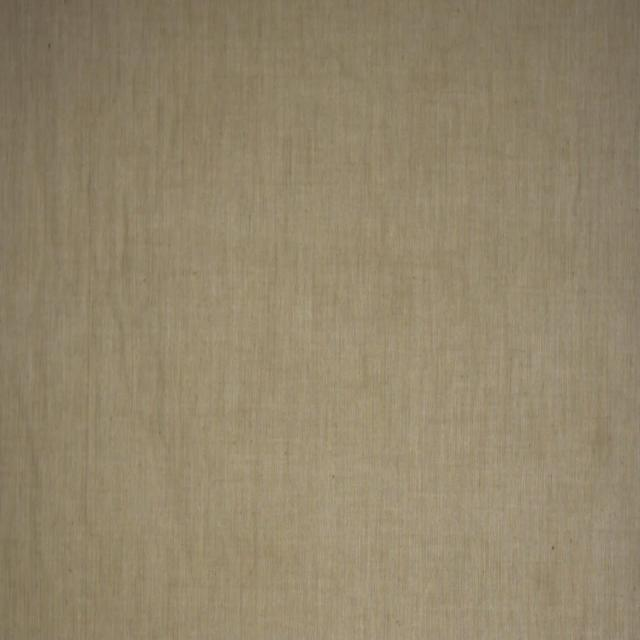dirty: (594, 421, 610, 458)
